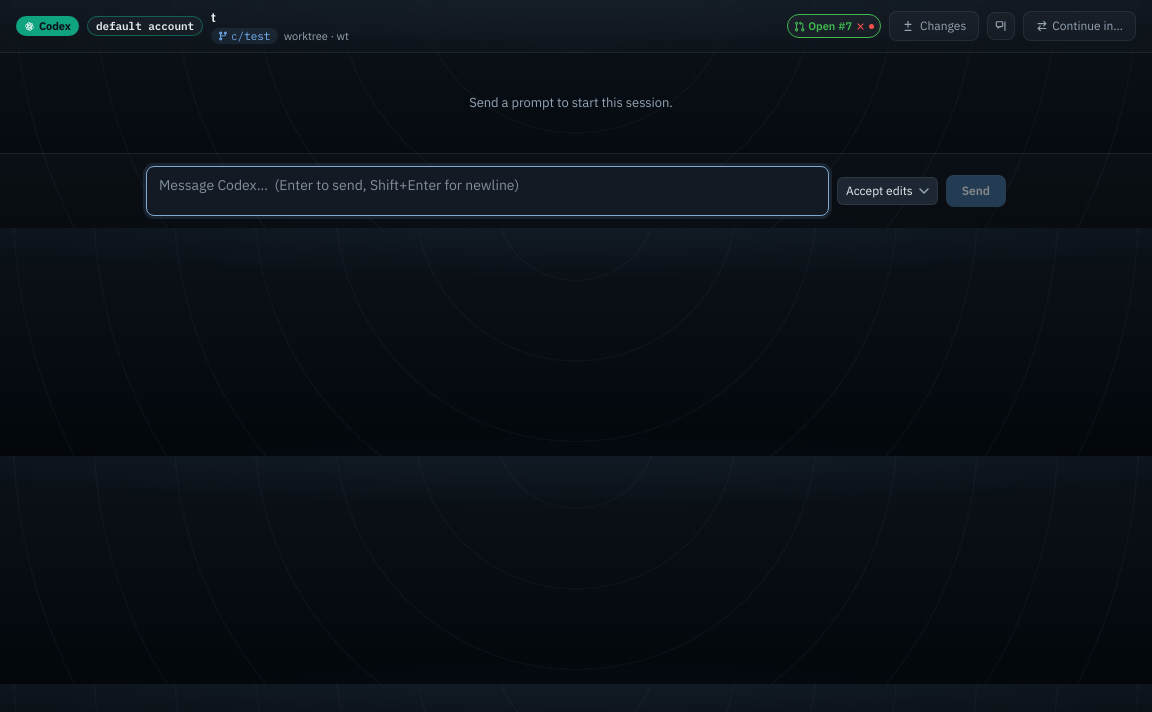
ChatView → review panel › brings the branch’s PR into the review
Click the button "Changes".
click(934, 26)  # box [889,11,979,41]
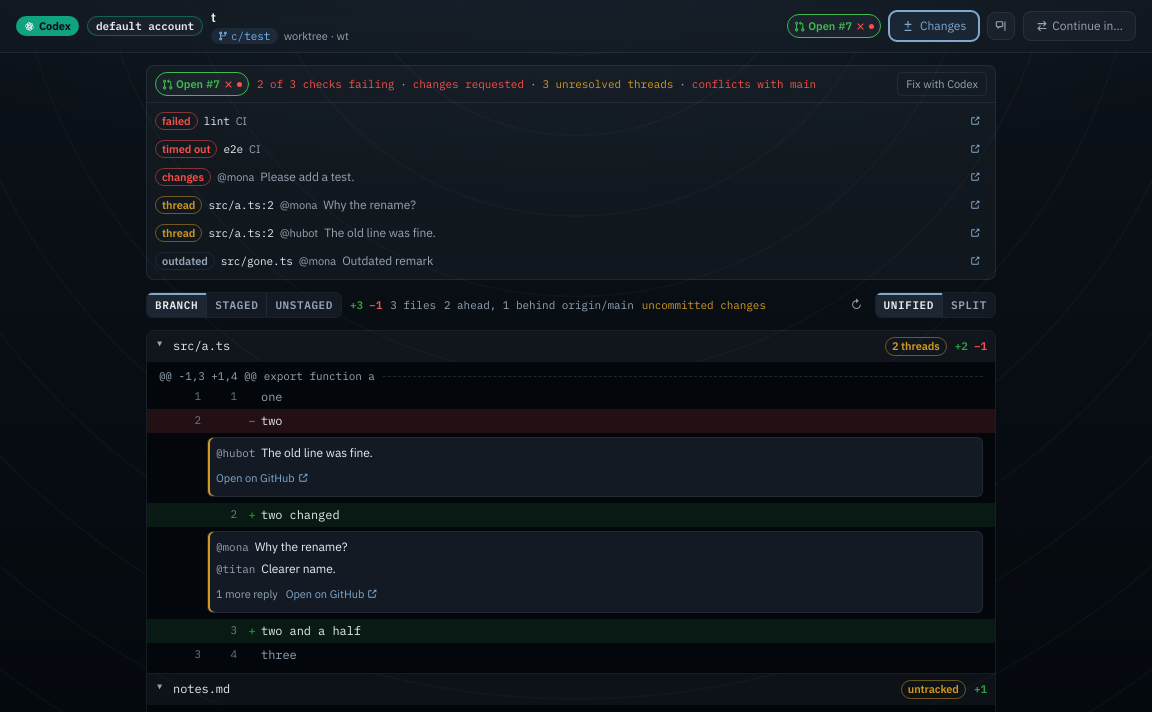
Expected: the element named "Pull request #7" is shown, [146,65,996,280]
Expected: the button "Fix with Codex" is shown, [897,72,987,96]
